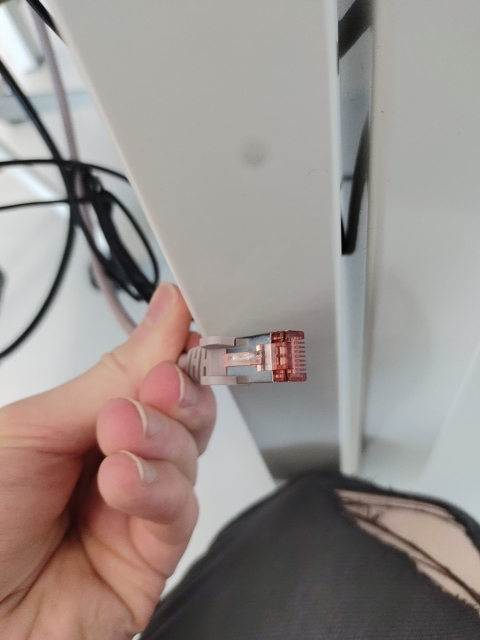Ethernet: (227, 327, 307, 385)
